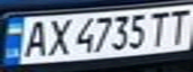3: (109, 12, 133, 52)
4: (72, 15, 96, 55)
5: (127, 11, 151, 50)
7: (90, 14, 115, 53)
A: (18, 17, 51, 59)
T: (163, 7, 193, 46), (145, 9, 172, 47)
X: (42, 16, 72, 57)
